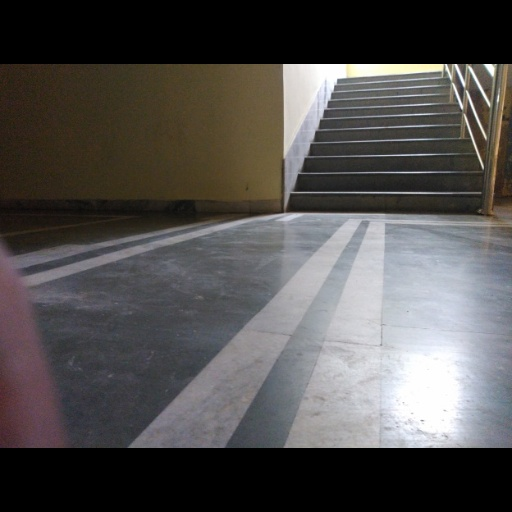Stairs: (289, 72, 483, 212)
